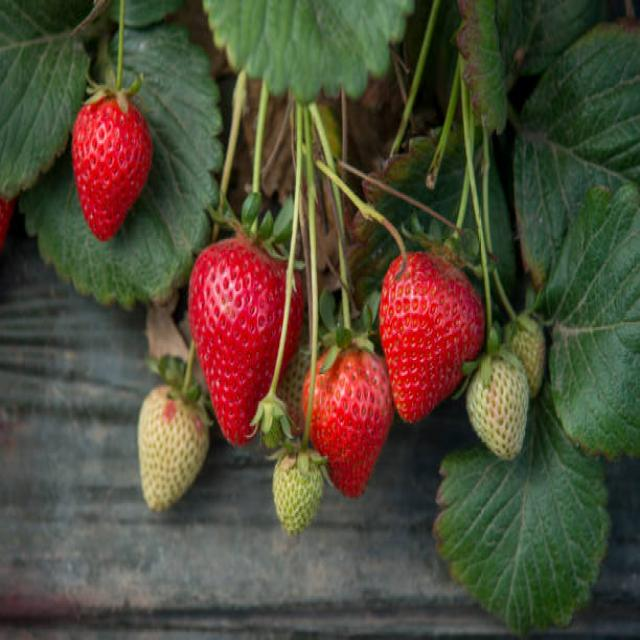Healthy Fruit: (188, 239, 305, 448), (380, 251, 485, 422), (303, 348, 397, 500), (72, 96, 152, 243), (140, 383, 208, 512), (467, 358, 529, 460)
